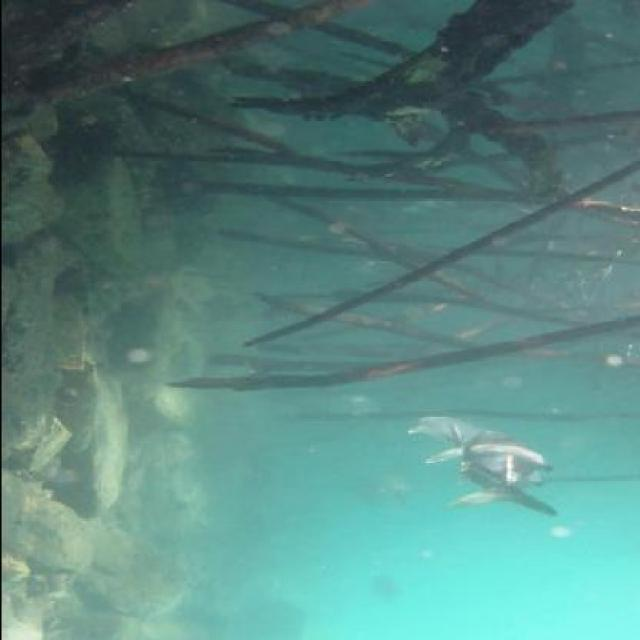Caranx_sexfasciatus_juvenile: (438, 431, 568, 520), (397, 413, 500, 476), (376, 476, 426, 510)
